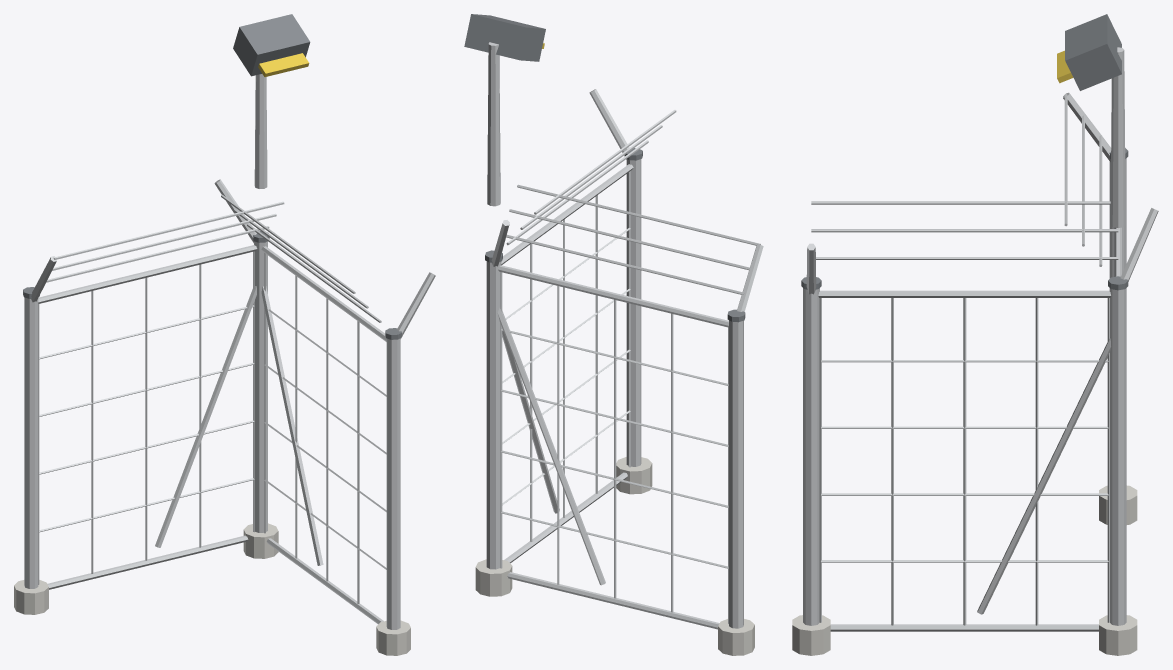
Rendered from cold-war-missile-silo-and-command-bunker-perimeter-fen-25992505__15671.glb.
The picture shows the model from 3 angles, left to right: view 1: azimuth 30°, elevation 25°; view 2: azimuth 150°, elevation 25°; view 3: azimuth 270°, elevation 25°; orthographic projection. The views are drawn at different scales.
Parts seen in each view (by area): view 1: perimeter-fence-corner; view 2: perimeter-fence-corner; view 3: perimeter-fence-corner.
Part boxes in pixels (bbox=[...]): perimeter-fence-corner: bbox=[14, 14, 435, 655]; perimeter-fence-corner: bbox=[464, 14, 763, 655]; perimeter-fence-corner: bbox=[792, 14, 1158, 655].
Size of the model in its own units: 2.49 by 4.45 by 2.39.
